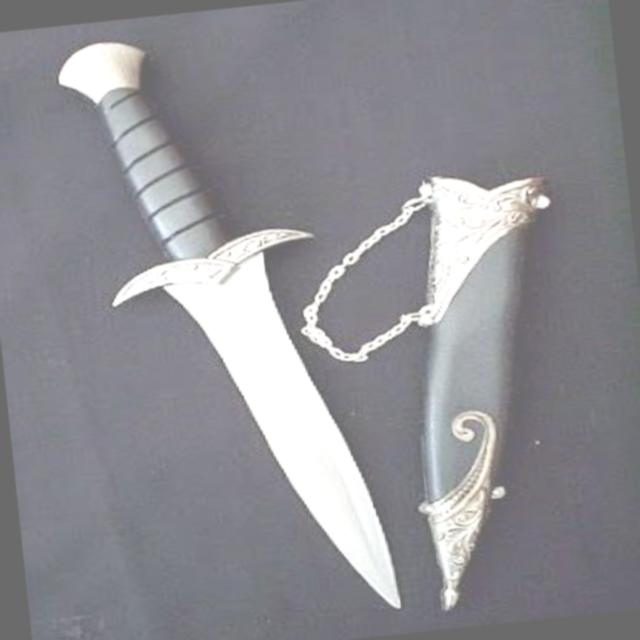short sword: (37, 6, 412, 640)
